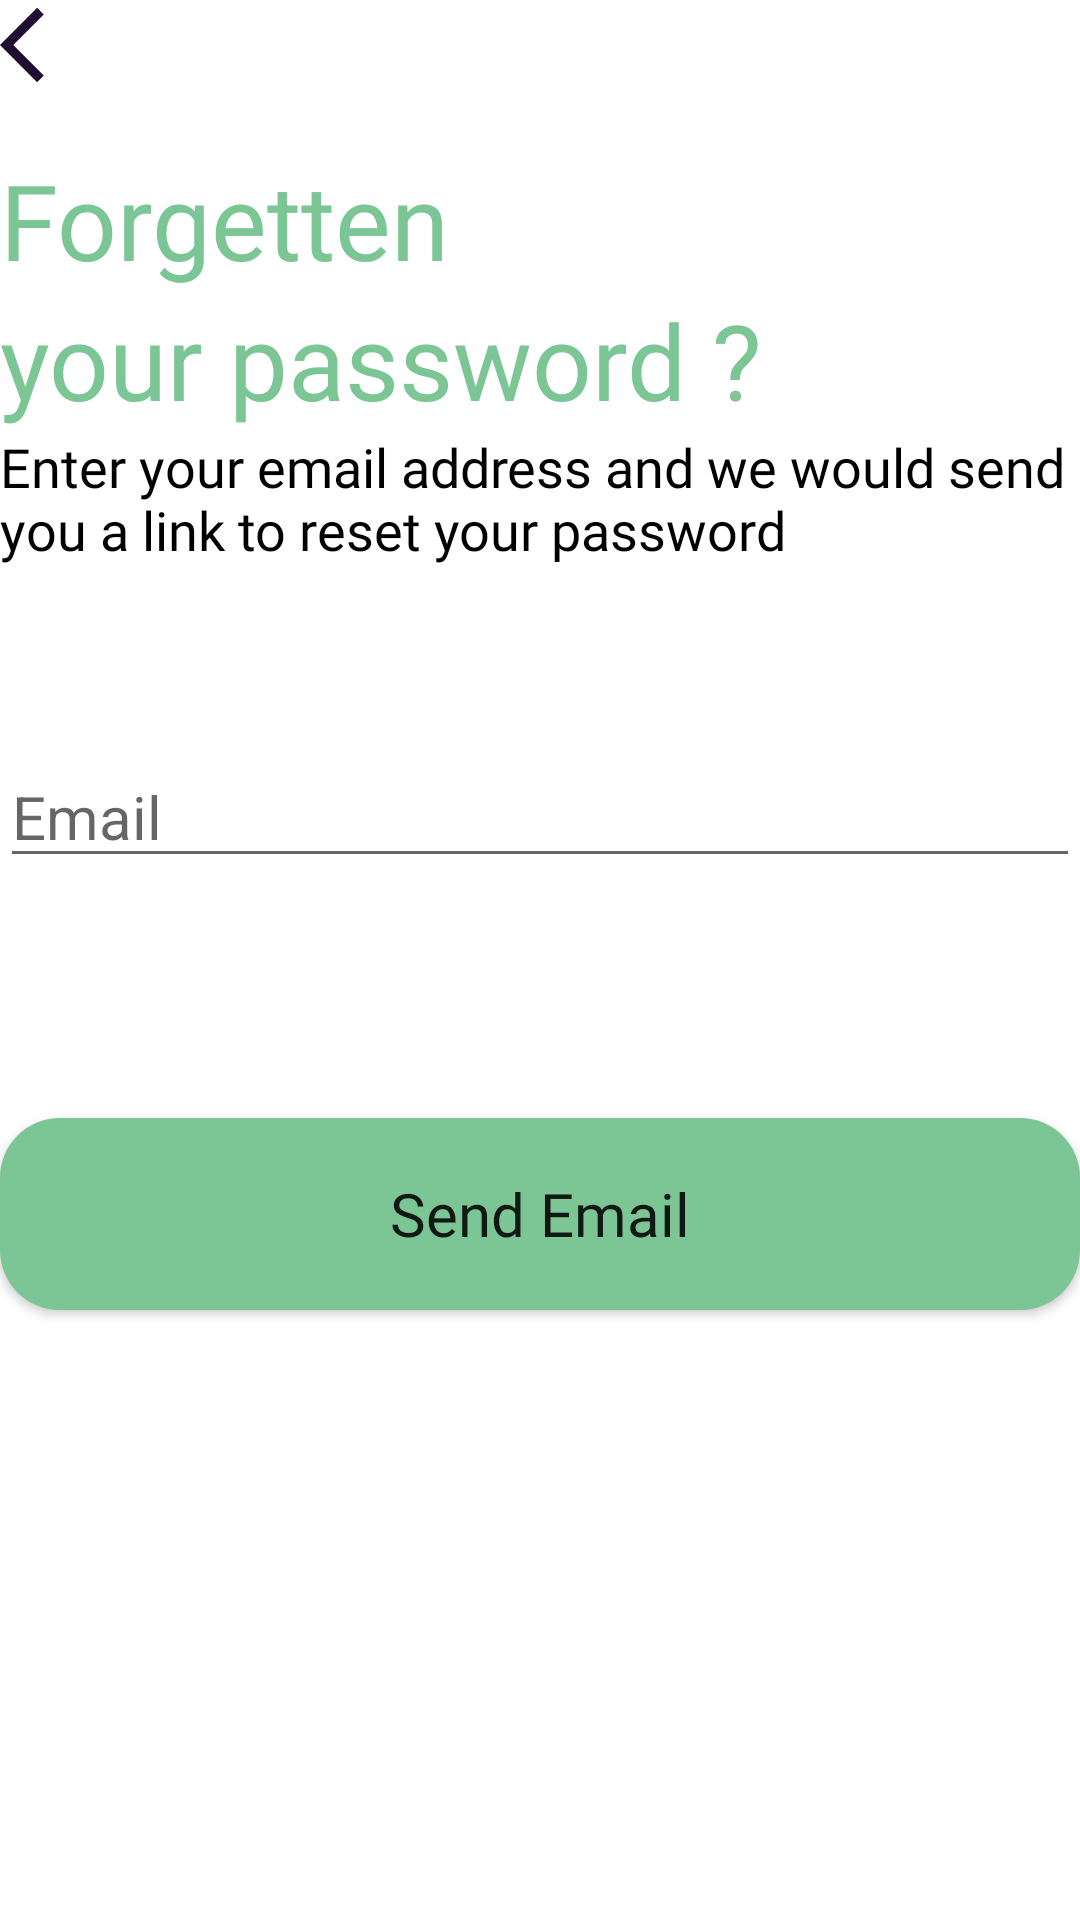

Icons on this 1080*1920 Android screen, each with its box as {"x1": x1, "y1": y1, "x2": x2, "y2": y2}:
arrow back: {"x1": 0, "y1": 8, "x2": 44, "y2": 82}
